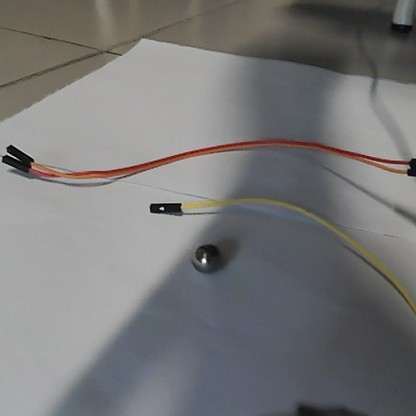ironball: (191, 241, 227, 276)
